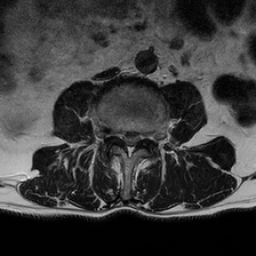CCS_normal: (126, 128, 134, 158)
LFS_stenosis: (142, 126, 149, 146)
LLS_stenosis: (133, 128, 141, 150)
RFS_severe_stenosis: (110, 126, 120, 146)
RLS_stenosis: (120, 126, 126, 148)
